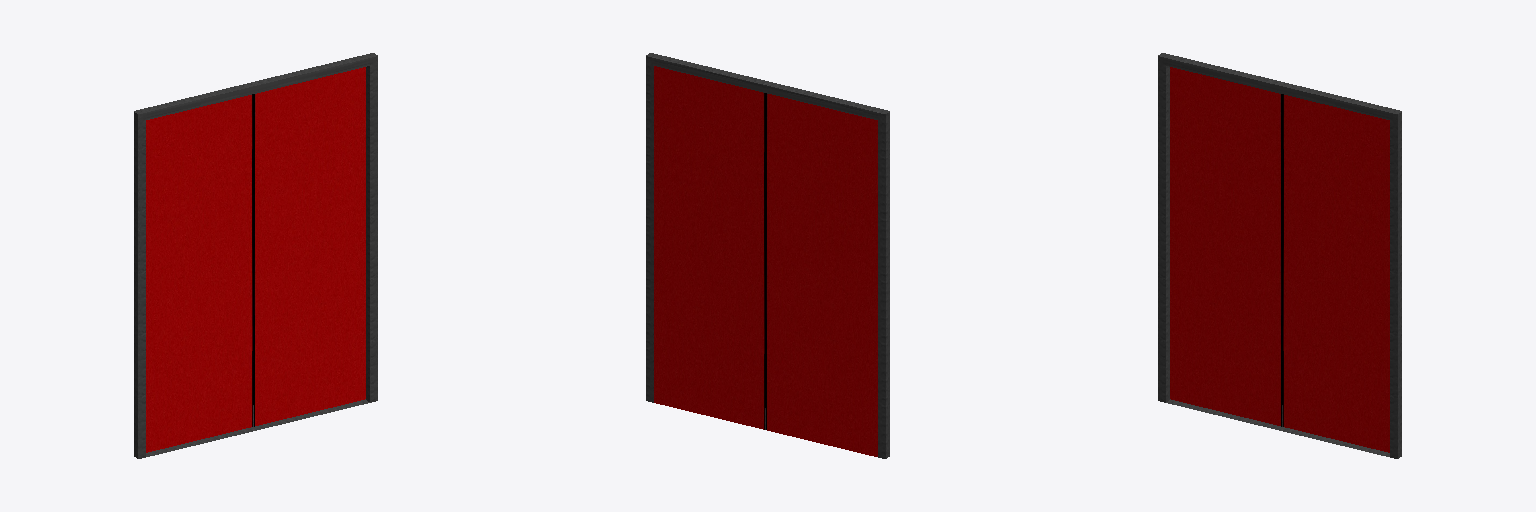
3 views of the same model, side by side, from view 1: azimuth 30°, elevation 25°; view 2: azimuth 150°, elevation 25°; view 3: azimuth 330°, elevation 25° (orthographic).
Visible parts, largest first — view 1: Cube.002; view 2: Cube.002; view 3: Cube.002.
Boxes of the visible parts, box(x1,y1,x2,y2) form: Cube.002: box(134, 53, 377, 458); Cube.002: box(646, 53, 889, 458); Cube.002: box(1158, 53, 1401, 458).
Bounding box in the file's own units: 3.18 × 4.37 × 0.1076.
1 materials, 1 textured.